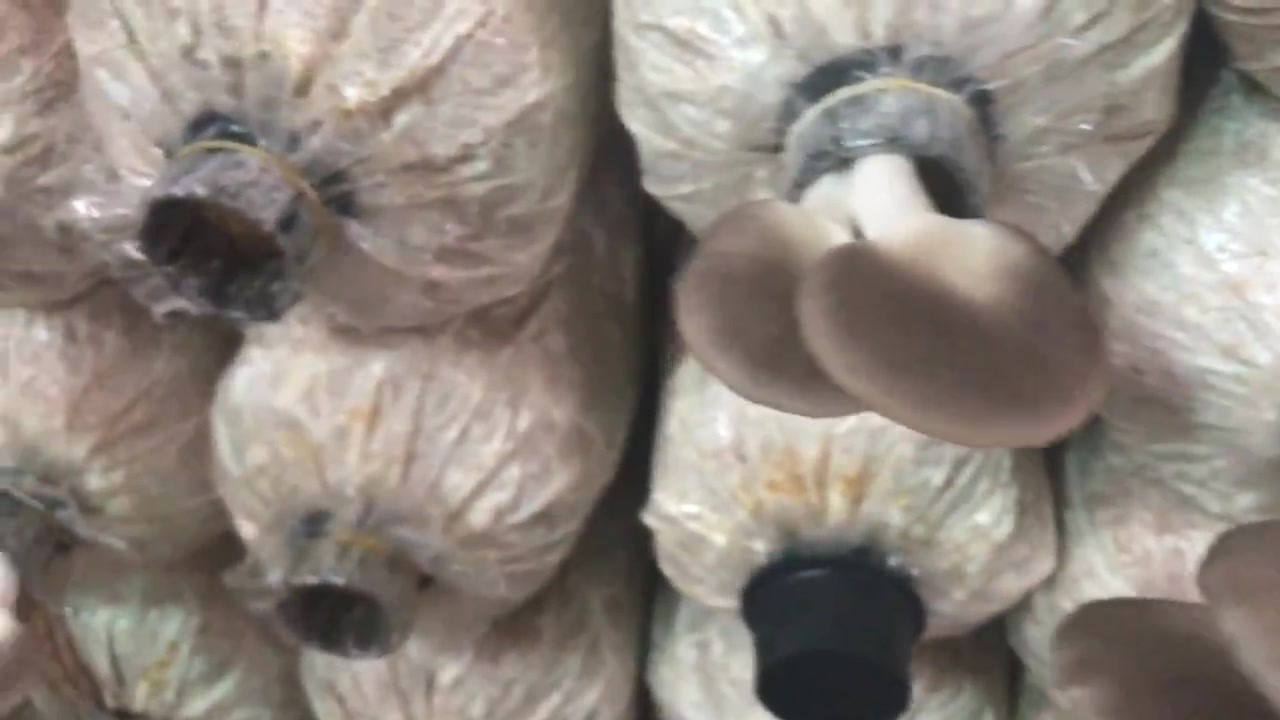nam: (682, 48, 1105, 439)
